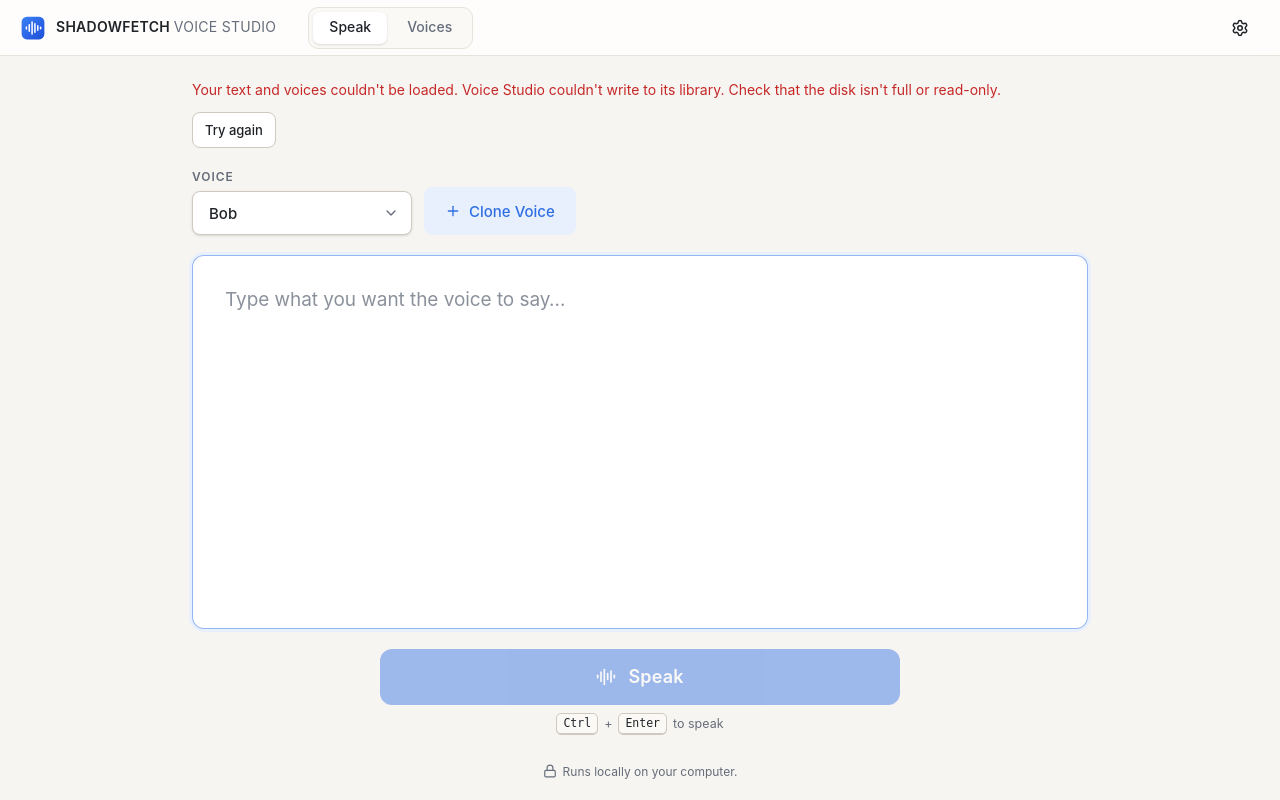
Test: Speak: review fixes › a failed startup load offers Try again and recovers
Expected: the message shows "couldn't be loaded", top-left (192, 81), bottom-right (462, 98)
Click the button "Try again": (234, 130) top-left (192, 112), bottom-right (276, 148)
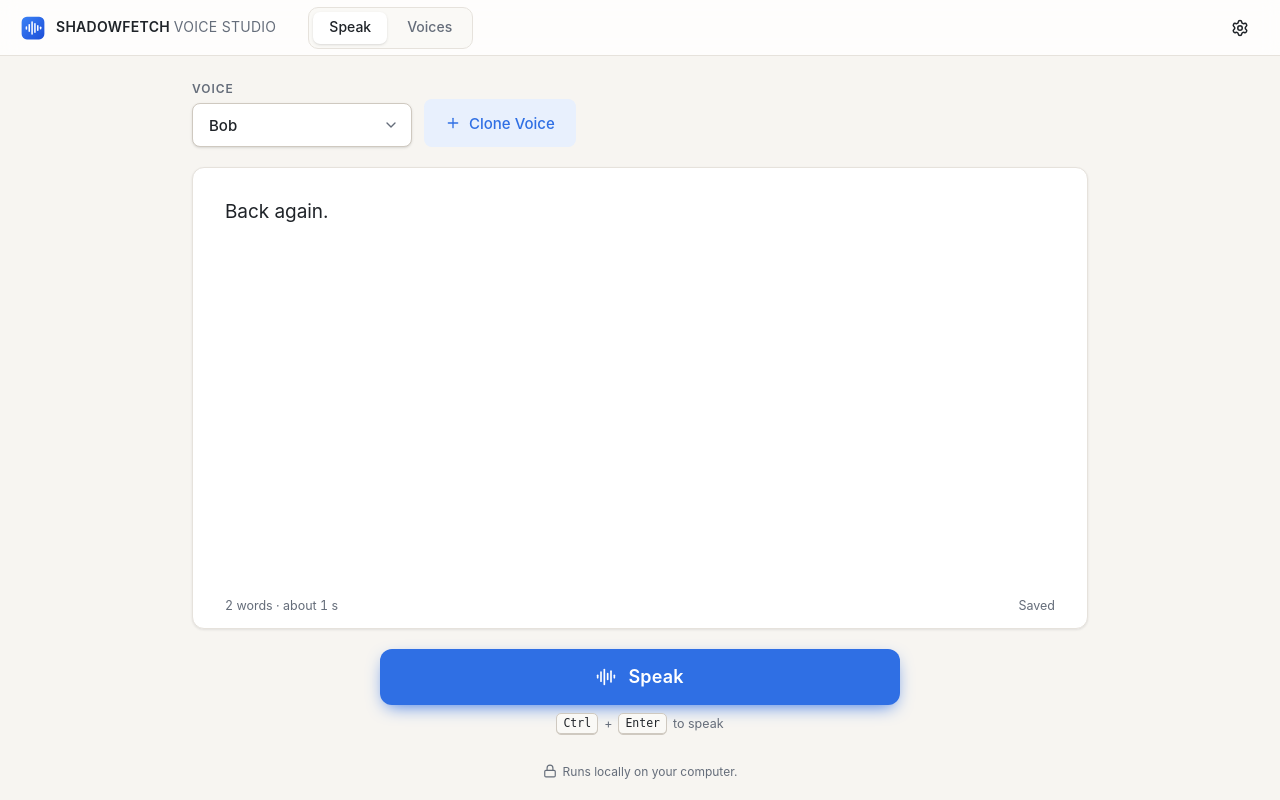
Expected: the text box named "Text to speak" holds "Back again.", top-left (193, 168), bottom-right (1087, 598)
